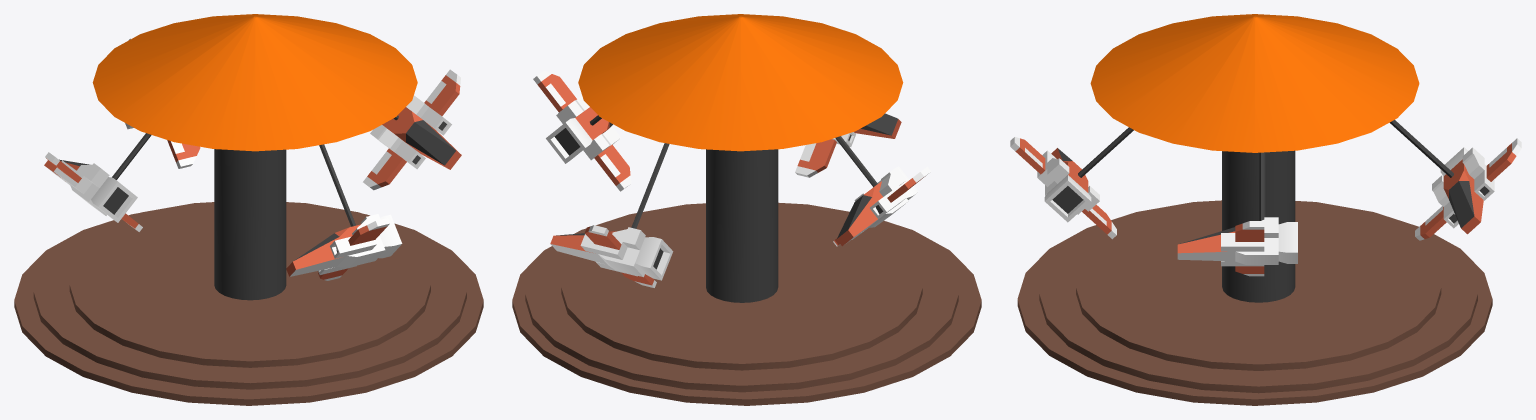
File: Manege1.fbx
3 views of the same model, side by side, from view 1: azimuth 30°, elevation 25°; view 2: azimuth 150°, elevation 25°; view 3: azimuth 270°, elevation 25° (orthographic).
Parts seen in each view (by area): view 1: cylinder_full_14, cylinder_cone_18, cylinder_full_16, cylinder_full_15, cylinder_full_17, spaceCraft1_23, spaceCraft1_27, spaceCraft1_3, spaceCraft1_22, laserSabelOff_28; view 2: cylinder_full_14, cylinder_cone_18, cylinder_full_16, cylinder_full_15, cylinder_full_17, spaceCraft1_23, spaceCraft1_22, spaceCraft1_3, spaceCraft1_27, laserSabelOff_21; view 3: cylinder_full_14, cylinder_cone_18, cylinder_full_16, cylinder_full_15, cylinder_full_17, spaceCraft1_23, spaceCraft1_22, spaceCraft1_27, laserSabelOff_21, laserSabelOff_24.
Boxes of the visible parts, bbox=[...] form: cylinder_full_14: bbox=[69, 210, 430, 367]; cylinder_cone_18: bbox=[92, 14, 417, 151]; cylinder_full_16: bbox=[33, 202, 466, 389]; cylinder_full_15: bbox=[14, 213, 483, 405]; cylinder_full_17: bbox=[214, 149, 286, 300]; spaceCraft1_23: bbox=[363, 69, 461, 190]; spaceCraft1_27: bbox=[286, 214, 402, 280]; spaceCraft1_3: bbox=[44, 152, 142, 231]; spaceCraft1_22: bbox=[125, 37, 200, 168]; laserSabelOff_28: bbox=[319, 144, 355, 226]; cylinder_full_14: bbox=[561, 213, 922, 370]; cylinder_cone_18: bbox=[578, 14, 903, 151]; cylinder_full_16: bbox=[525, 204, 958, 392]; cylinder_full_15: bbox=[512, 202, 981, 405]; cylinder_full_17: bbox=[706, 149, 778, 302]; spaceCraft1_23: bbox=[533, 71, 631, 191]; spaceCraft1_22: bbox=[550, 225, 673, 287]; spaceCraft1_3: bbox=[833, 166, 930, 246]; spaceCraft1_27: bbox=[795, 113, 901, 177]; laserSabelOff_21: bbox=[631, 143, 669, 228]; cylinder_full_14: bbox=[1076, 212, 1441, 370]; cylinder_cone_18: bbox=[1090, 14, 1419, 152]; cylinder_full_16: bbox=[1039, 203, 1477, 393]; cylinder_full_15: bbox=[1017, 200, 1492, 405]; cylinder_full_17: bbox=[1222, 150, 1295, 302]; spaceCraft1_23: bbox=[1177, 217, 1297, 276]; spaceCraft1_22: bbox=[1415, 138, 1521, 240]; spaceCraft1_27: bbox=[1010, 137, 1116, 239]; laserSabelOff_21: bbox=[1389, 120, 1453, 177]; laserSabelOff_24: bbox=[1259, 152, 1265, 220].
Size of the model in its own units: 65.99 by 44 by 69.98.
